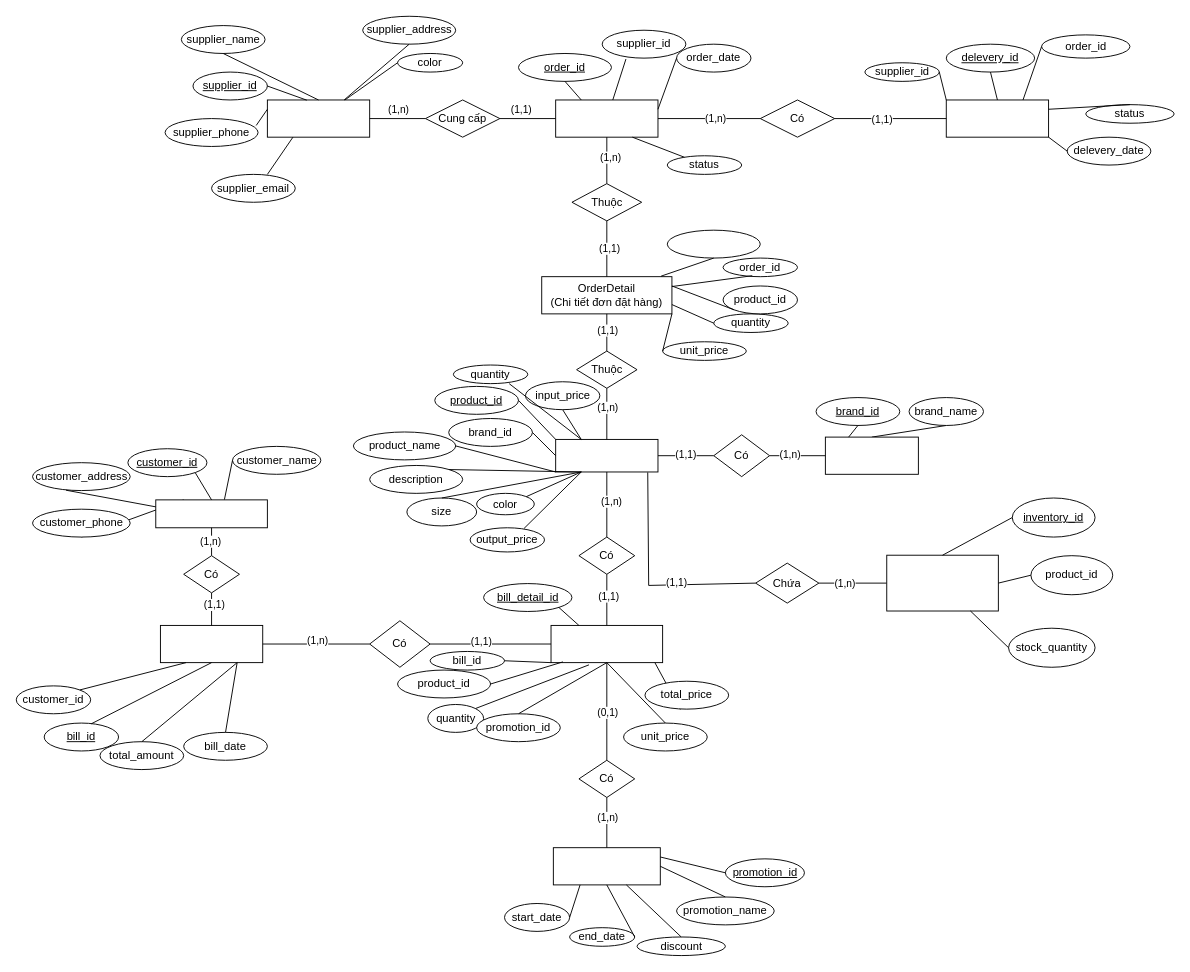
Some shapes in this 1190 by 972 pixel diagram are drawn without their labels. The shapes that lost their labels are listed below. From the top down, each one's centre as x and y in pixels, then its label:
point (318, 118): Supplier (Nhà cung cấp)
point (606, 118): PurchaseOrder (Đơn đặt hàng)
point (997, 118): DeliveryNote (Phiếu giao hàng)
point (713, 243): order_detail_id
point (606, 455): Product (Sản phẩm)
point (871, 455): Brand (Thương hiệu)
point (211, 513): Customer (Khách hàng)
point (942, 582): Inventory (Kho)
point (211, 643): Bill (Hóa đơn)
point (606, 643): BillDetail (Chi tiết hóa đơn)
point (606, 866): Promotion (Khuyến mãi)
